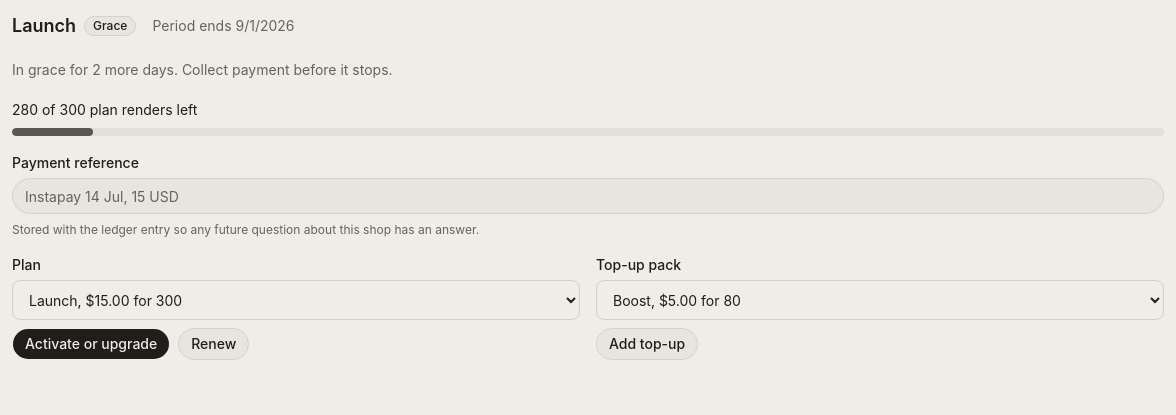
Test case: ShopPlanControl safe action results › renders forbidden in en without leaking backend text or claiming success
In the field labelled "Payment reference": (588, 196) [12,178,1164,214], type "payment-123"
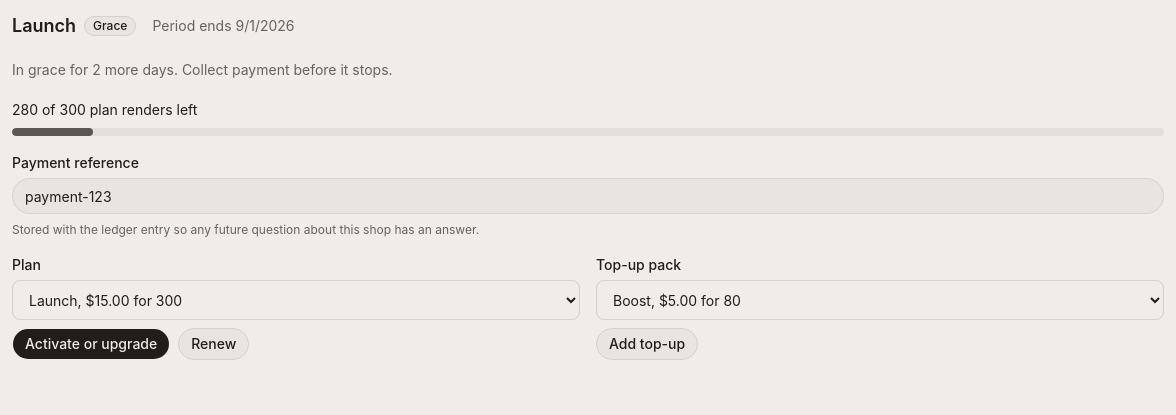
Click the button "Activate or upgrade": (91, 344) [12,328,170,360]
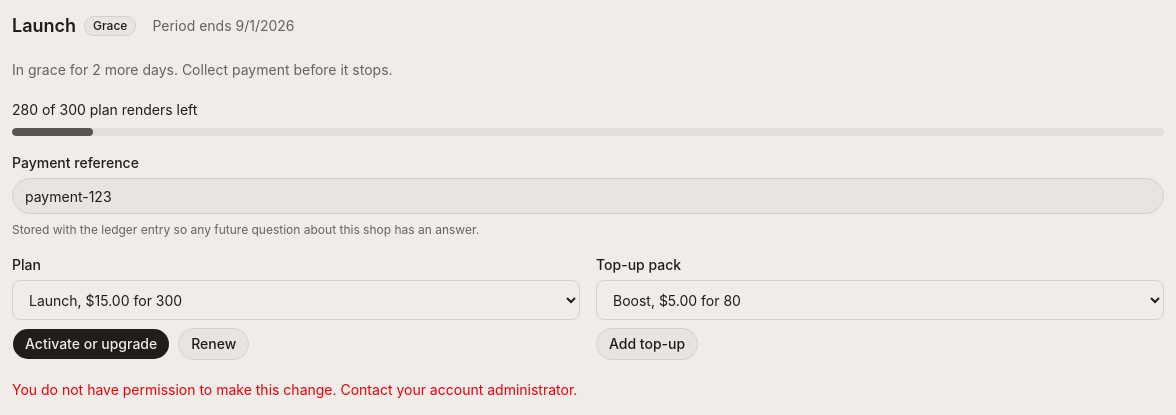
Expected: the message shows "You do not have permission to make this change. Contact your account administrator.", [12,381,577,398]
